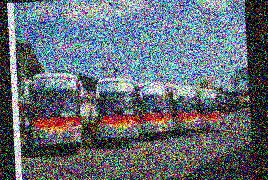bus: (26, 72, 84, 153), (91, 75, 143, 146), (136, 83, 174, 139), (197, 88, 224, 132)
